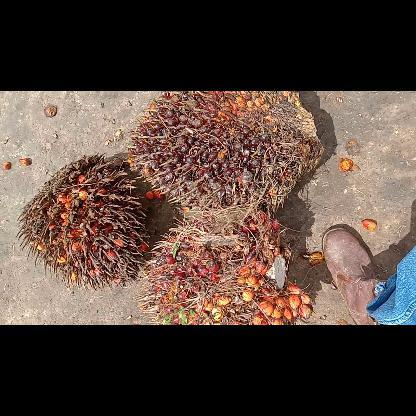Kurang masak: (133, 91, 325, 215)
TBS masak: (141, 207, 310, 324)
Terlalu masak: (18, 154, 148, 284)
